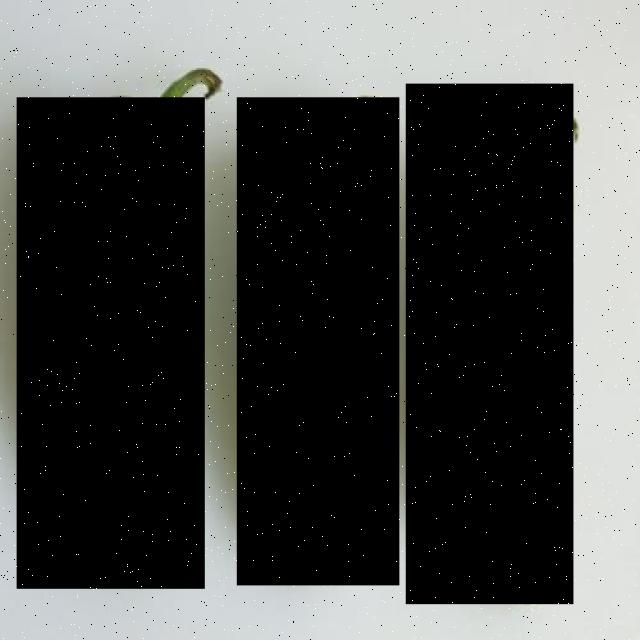Chili_Pepper: (17, 97, 205, 589), (407, 84, 574, 604), (238, 97, 400, 586)
